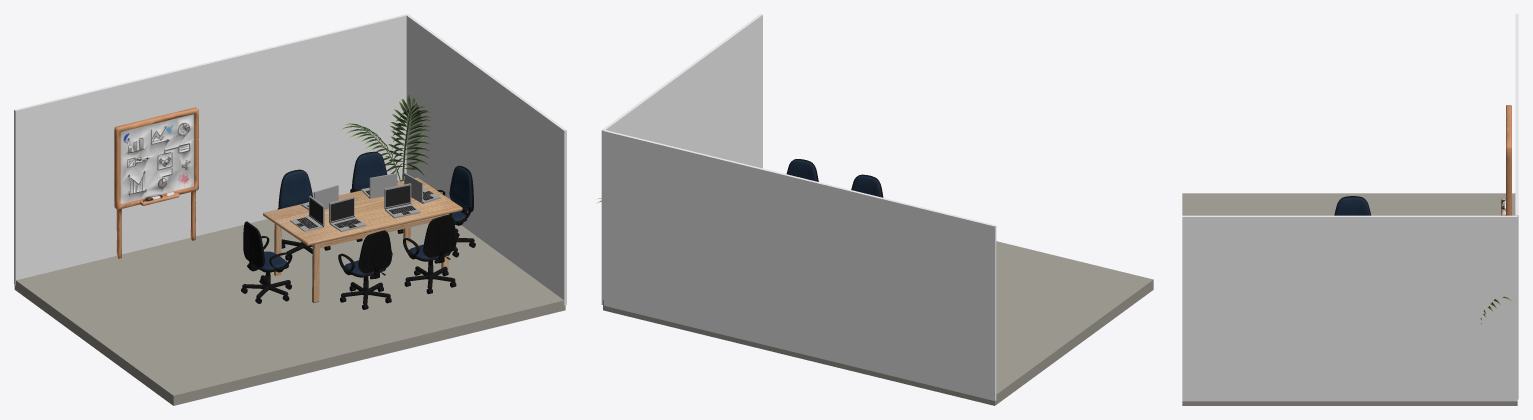
The model's file is administracion.glb.
3 views of the same model, side by side, from view 1: azimuth 30°, elevation 25°; view 2: azimuth 150°, elevation 25°; view 3: azimuth 270°, elevation 25° (orthographic). The views are drawn at different scales.
Parts seen in each view (by area): view 1: Cube.001, Cube, Cube.002, Mesh1.0, stoleshnica, LP_Chunk_00.006, LP_Chunk_00.002_Material_Base_0.002, LP_Chunk_00.002_Material_Base_0.004, LP_Chunk_00.002_Material_Base_0.005, LP_Chunk_00.002, LP_Chunk_00.002_Material_Base_0.001, LP_Chunk_00.002_Material_Base_0.003 (+1 smaller); view 2: Cube.001, Cube, Cube.002, LP_Chunk_00.002_Material_Base_0.004, LP_Chunk_00.002_Material_Base_0.002; view 3: Cube.002, Cube, Cube.001, Mesh1.0, LP_Chunk_00.002_Material_Base_0.005.
Part boxes in pixels (x1,y1,x2,y2): Cube.001: [14, 14, 406, 285]; Cube: [14, 219, 565, 405]; Cube.002: [406, 14, 566, 305]; Mesh1.0: [114, 107, 198, 258]; stoleshnica: [263, 177, 462, 302]; LP_Chunk_00.006: [342, 94, 432, 181]; LP_Chunk_00.002_Material_Base_0.002: [403, 214, 457, 294]; LP_Chunk_00.002_Material_Base_0.004: [338, 230, 392, 309]; LP_Chunk_00.002_Material_Base_0.005: [241, 221, 292, 303]; LP_Chunk_00.002: [277, 169, 330, 260]; LP_Chunk_00.002_Material_Base_0.001: [437, 165, 475, 257]; LP_Chunk_00.002_Material_Base_0.003: [350, 151, 403, 241]; Cube.001: [604, 130, 996, 400]; Cube: [603, 241, 1153, 405]; Cube.002: [601, 14, 762, 304]; LP_Chunk_00.002_Material_Base_0.004: [851, 174, 883, 197]; LP_Chunk_00.002_Material_Base_0.002: [786, 159, 818, 181]; Cube.002: [1182, 215, 1517, 401]; Cube: [1182, 193, 1517, 405]; Cube.001: [1515, 14, 1518, 399]; Mesh1.0: [1501, 105, 1511, 215]; LP_Chunk_00.002_Material_Base_0.005: [1334, 196, 1370, 215].
Bounding box in the file's own units: 18.34 × 7.74 × 12.43.
24 materials, 9 textured.
